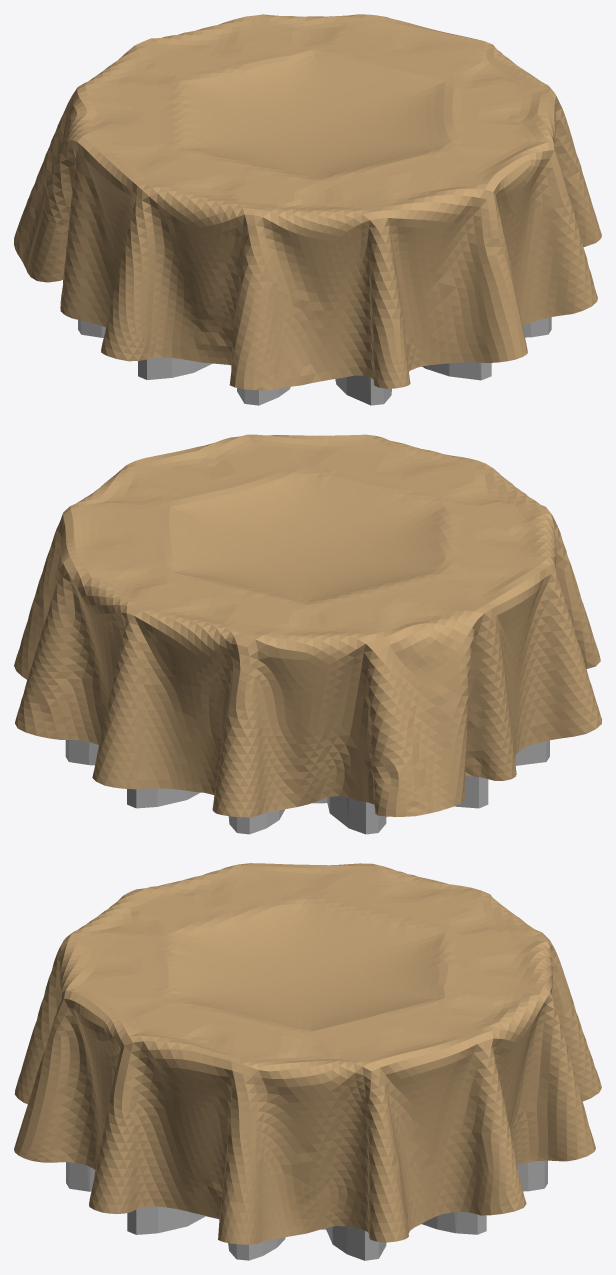
Rendered from level_2.glb.
3 views of the same model, one above another, from view 1: azimuth 30°, elevation 25°; view 2: azimuth 150°, elevation 25°; view 3: azimuth 270°, elevation 25° (orthographic). The views are drawn at different scales.
Visible parts, largest first — view 1: world, object.obj; view 2: world, object.obj; view 3: world, object.obj.
Boxes of the visible parts, x1,y1,x2,y2 form: world: (14, 14, 601, 390); object.obj: (78, 317, 551, 405); world: (14, 434, 601, 817); object.obj: (65, 740, 549, 834); world: (14, 863, 601, 1244); object.obj: (66, 1160, 547, 1260).
Bounding box in the file's own units: 0.4235 × 0.1574 × 0.426.
